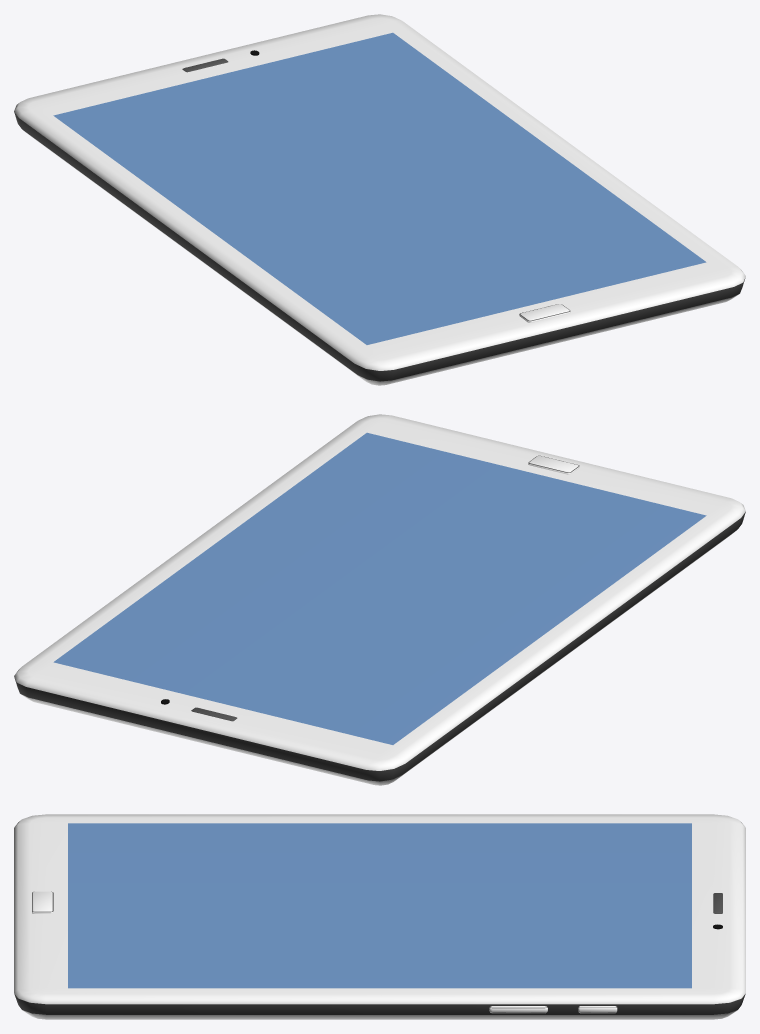
Rendered from Tablet2.glb.
3 views of the same model, one above another, from view 1: azimuth 30°, elevation 25°; view 2: azimuth 150°, elevation 25°; view 3: azimuth 270°, elevation 25° (orthographic).
Parts seen in each view (by area): view 1: ChamferBox001; view 2: ChamferBox001; view 3: ChamferBox001, ChamferBox002, ChamferBox005.
Boxes of the visible parts, x1,y1,x2,y2 form: ChamferBox001: [14, 14, 745, 385]; ChamferBox001: [14, 414, 745, 785]; ChamferBox001: [14, 814, 745, 1019]; ChamferBox002: [32, 891, 53, 913]; ChamferBox005: [489, 1006, 547, 1013].
Size of the model in its own units: 44.12 by 3.65 by 72.4.
